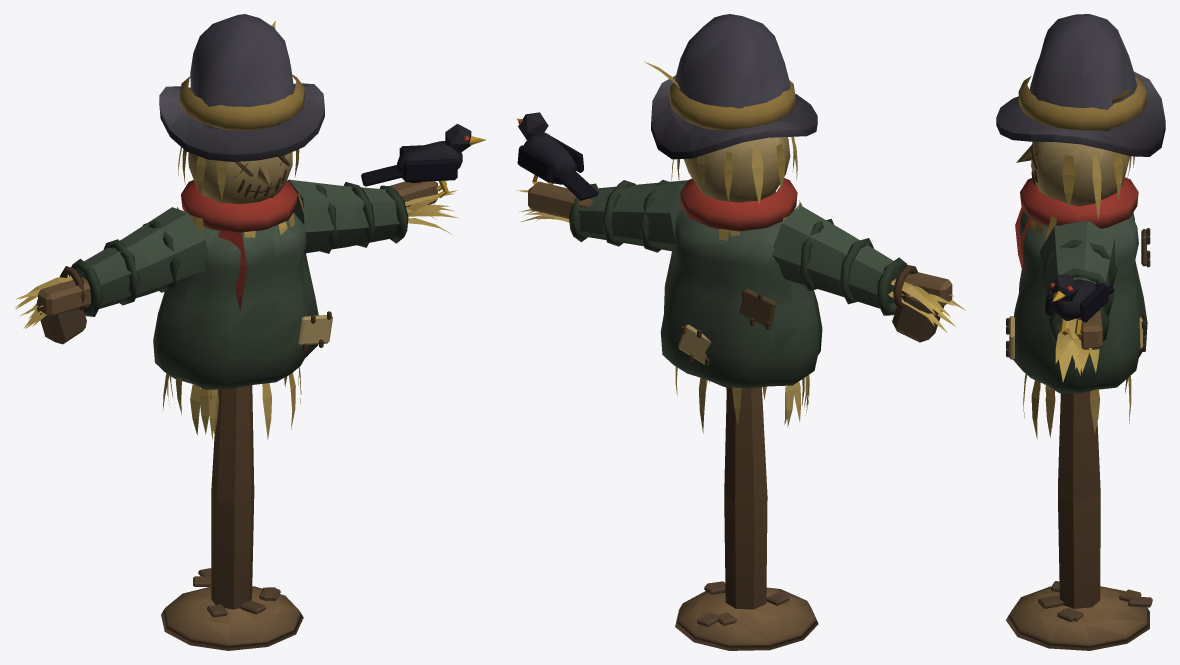
Rendered from scarecrow-01.glb.
The picture shows the model from 3 angles, left to right: view 1: azimuth 30°, elevation 25°; view 2: azimuth 150°, elevation 25°; view 3: azimuth 270°, elevation 25°; orthographic projection.
Parts seen in each view (by area): view 1: scarecrow_01; view 2: scarecrow_01; view 3: scarecrow_01.
Part boxes in pixels (bbox=[...]): scarecrow_01: bbox=[15, 14, 485, 650]; scarecrow_01: bbox=[516, 14, 966, 650]; scarecrow_01: bbox=[996, 14, 1165, 650].
Bounding box in the file's own units: 1.89 × 2.4 × 0.5999.
